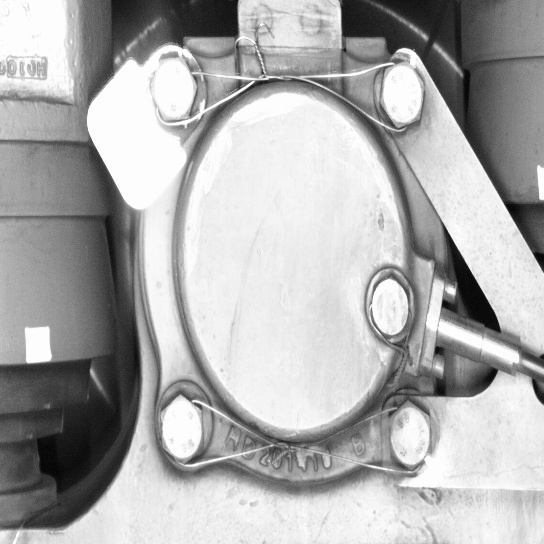IronWire: (140, 47, 431, 138), (153, 388, 439, 479)
Screw: (367, 49, 430, 137), (140, 48, 205, 128), (380, 394, 440, 477), (152, 388, 208, 468), (361, 267, 416, 347)
